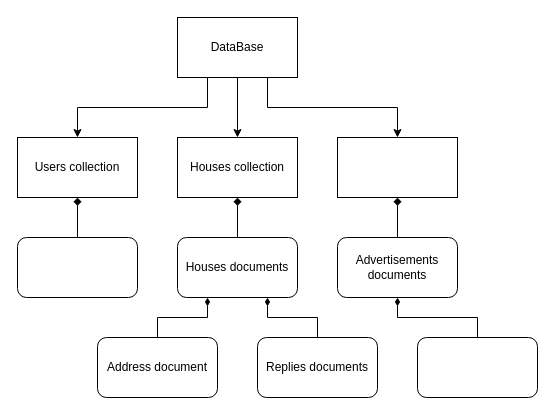
The diagram is 555 pixels wide and 415 high, and some of its shapes have lost their labels. The centre of each missing label's shape, as x and y in pixels:
"Advertisements collection" goes at point (397, 167).
"Tags documents" goes at point (477, 367).
"User documents" goes at point (77, 267).
